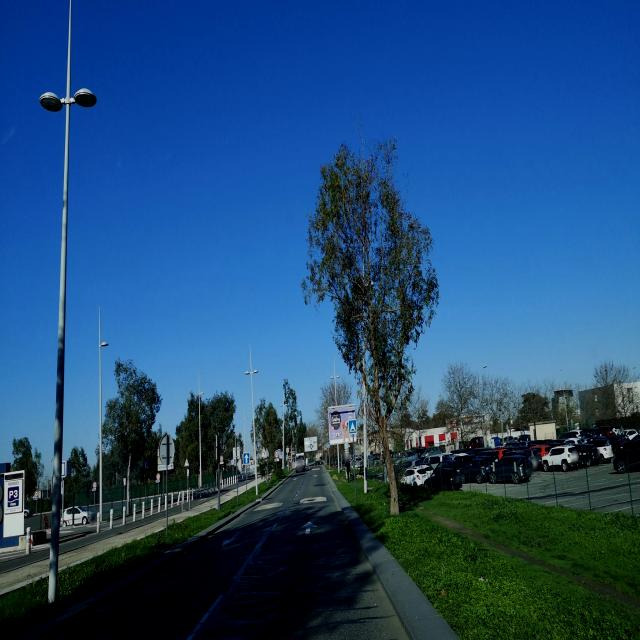car: (487, 447, 533, 483), (613, 431, 640, 472), (541, 444, 581, 471), (588, 436, 614, 464), (61, 504, 91, 526), (293, 452, 308, 474)
